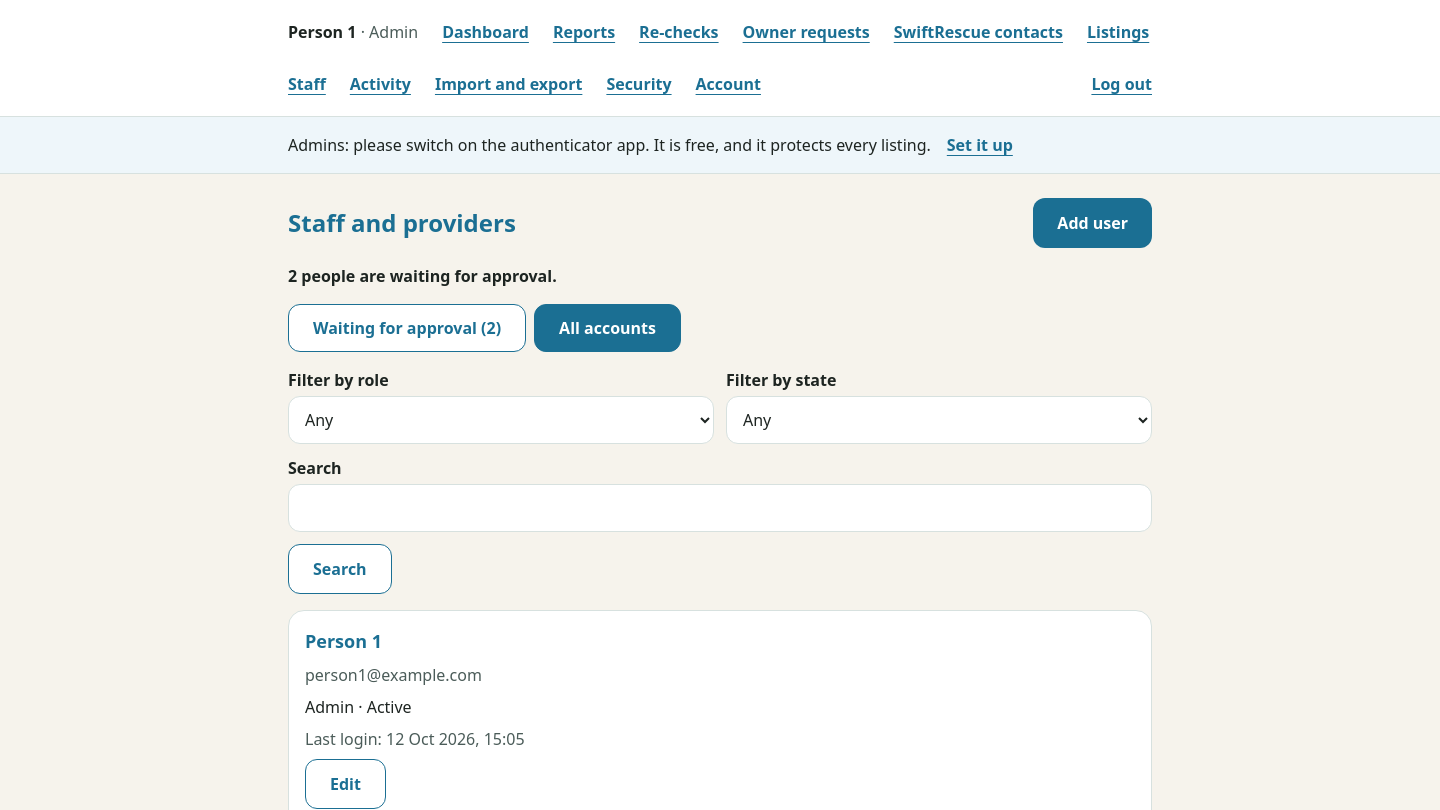
Waiting for approval › rejects after a confirm step, with the reason when one is written, and takes the card out
Click the tab "Waiting for approval (2)" at point(407, 328), box 288,304 -> 526,352
(page scrolled)
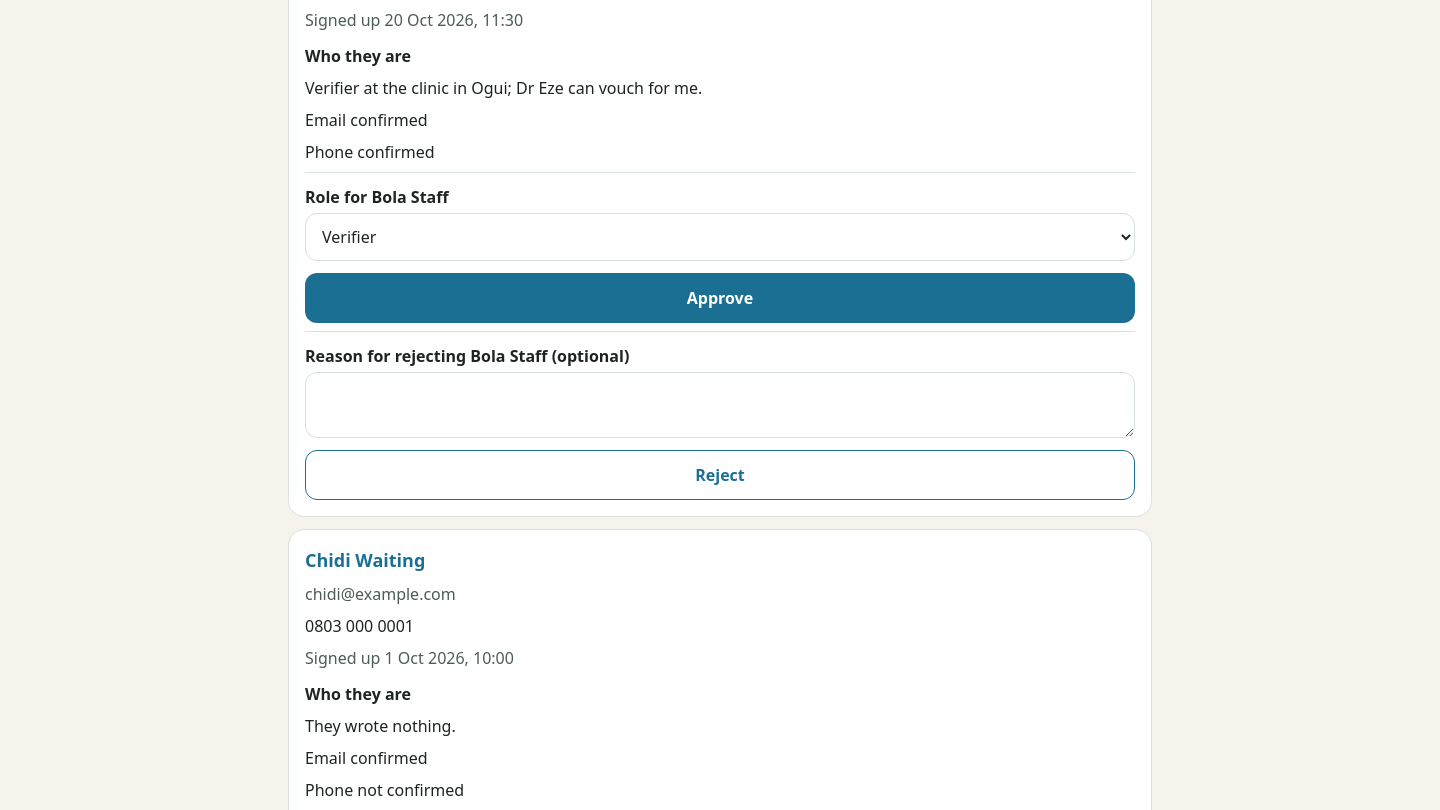
Type "We do not know this clinic." into the text box labelled "Reason for rejecting Bola Staff (optional)" at point(720, 405), box 305,372 -> 1135,438
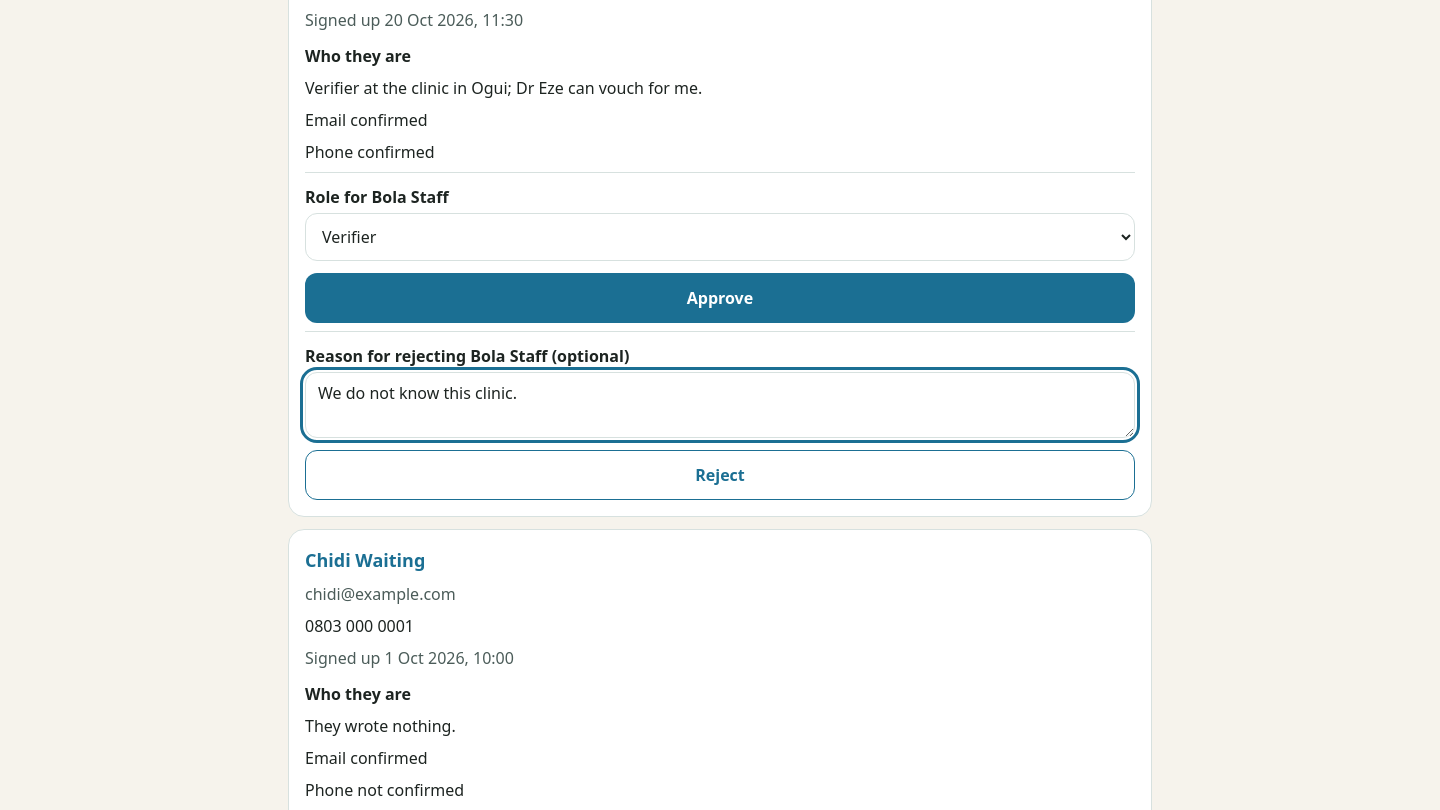
Click the button with aria-label "Reject Bola Staff" at point(720, 475), box 305,450 -> 1135,500
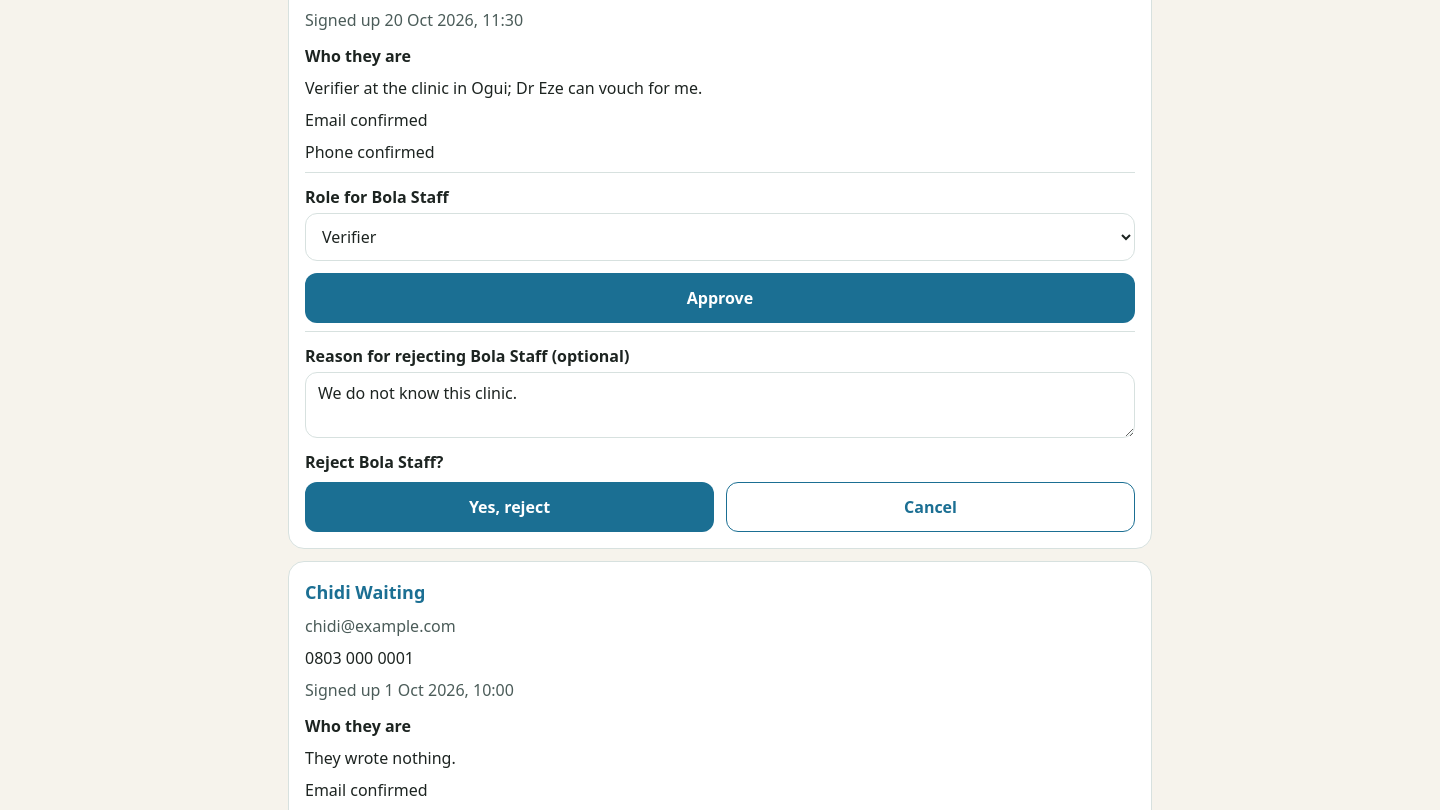
Check: the text "Reject Bola Staff?" is shown, box 305,451 -> 444,473
Click the button "Yes, reject" at point(510, 507), box 305,482 -> 714,532
(page scrolled)
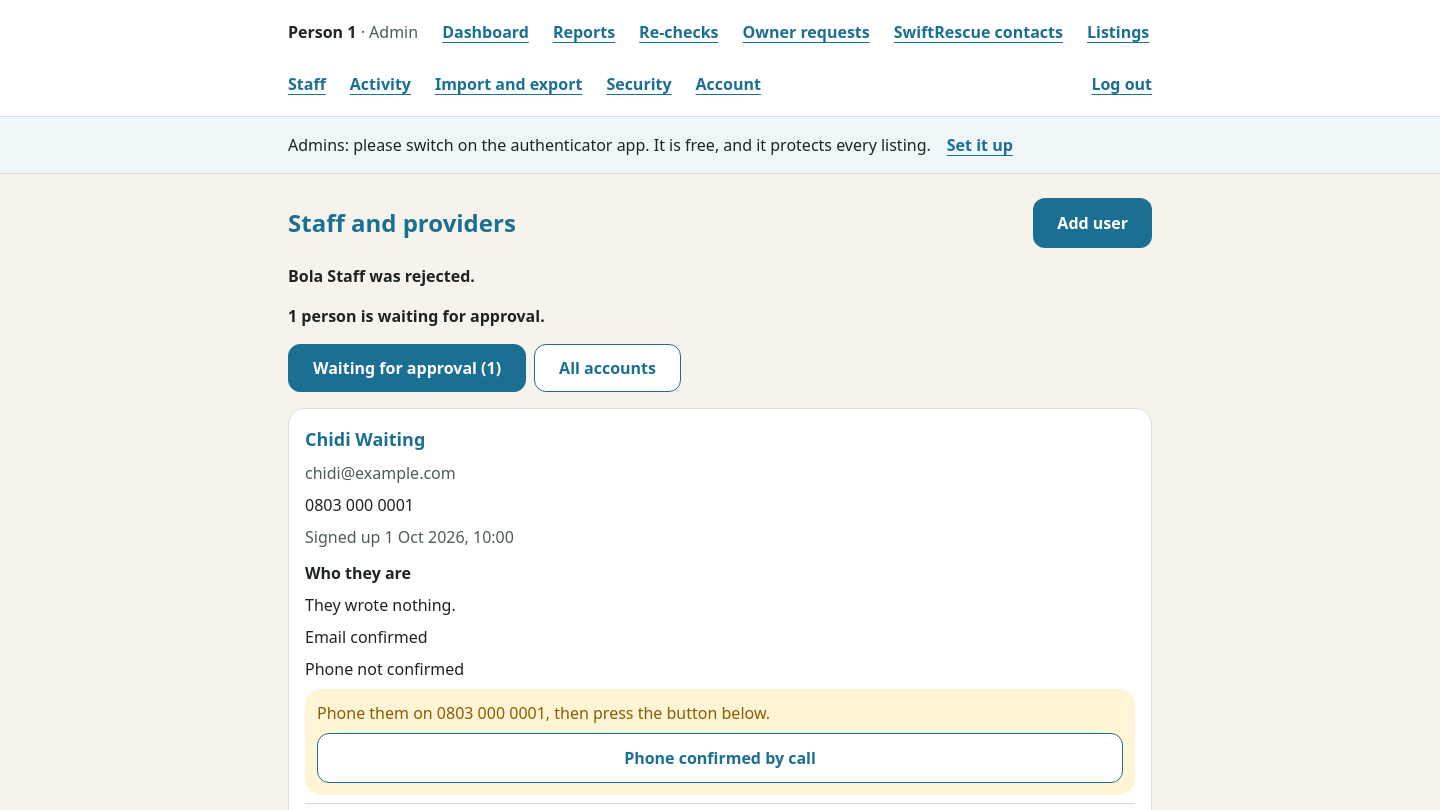
Check: the text "Bola Staff was rejected." is shown, box 288,265 -> 475,287
Check: the tab "Waiting for approval (1)" is shown, box 288,344 -> 526,392
